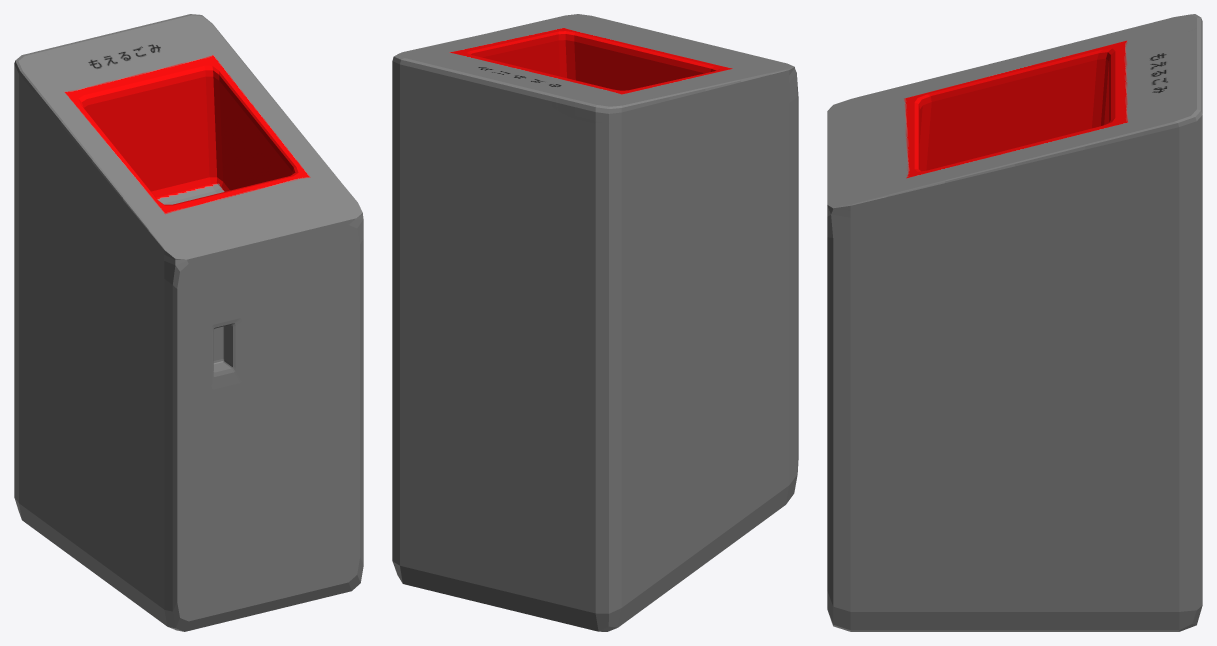
The model's file is garbage_red.fbx.
3 renders of one model, left to right at view 1: azimuth 30°, elevation 25°; view 2: azimuth 150°, elevation 25°; view 3: azimuth 270°, elevation 25°, orthographic. The views are drawn at different scales.
Parts seen in each view (by area): view 1: Cube; view 2: Cube; view 3: Cube.
Part boxes in pixels (x1,y1,x2,y2): Cube: (14,14,363,631); Cube: (392,14,798,631); Cube: (827,14,1202,631).
Bounding box in the file's own units: 107 × 244 × 159.
